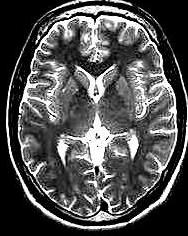Normal_Brain: (2, 1, 188, 236)
